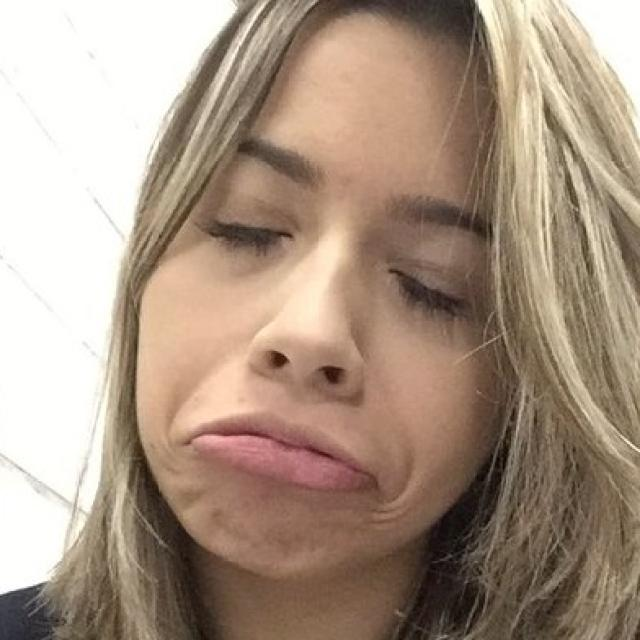Depress: (129, 8, 513, 580)
